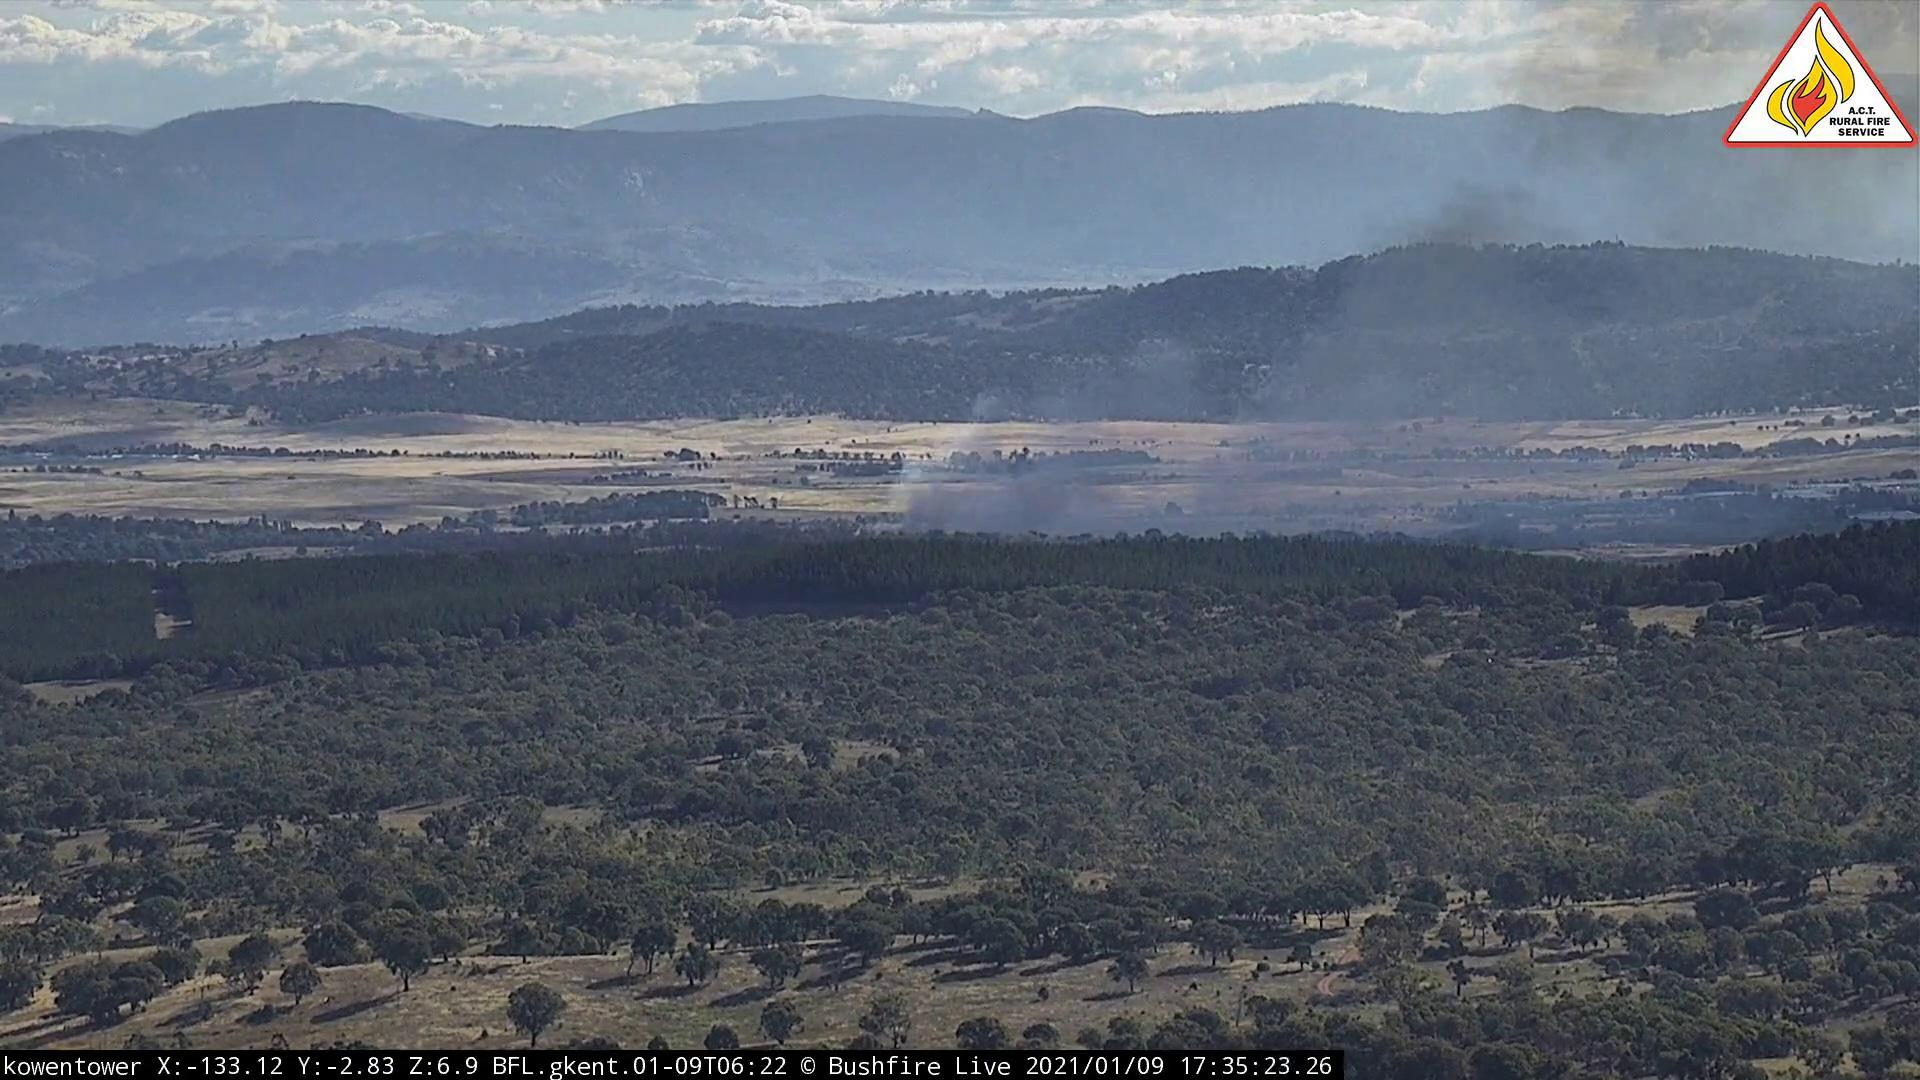instance_salient_object: (876, 152, 1782, 550)
